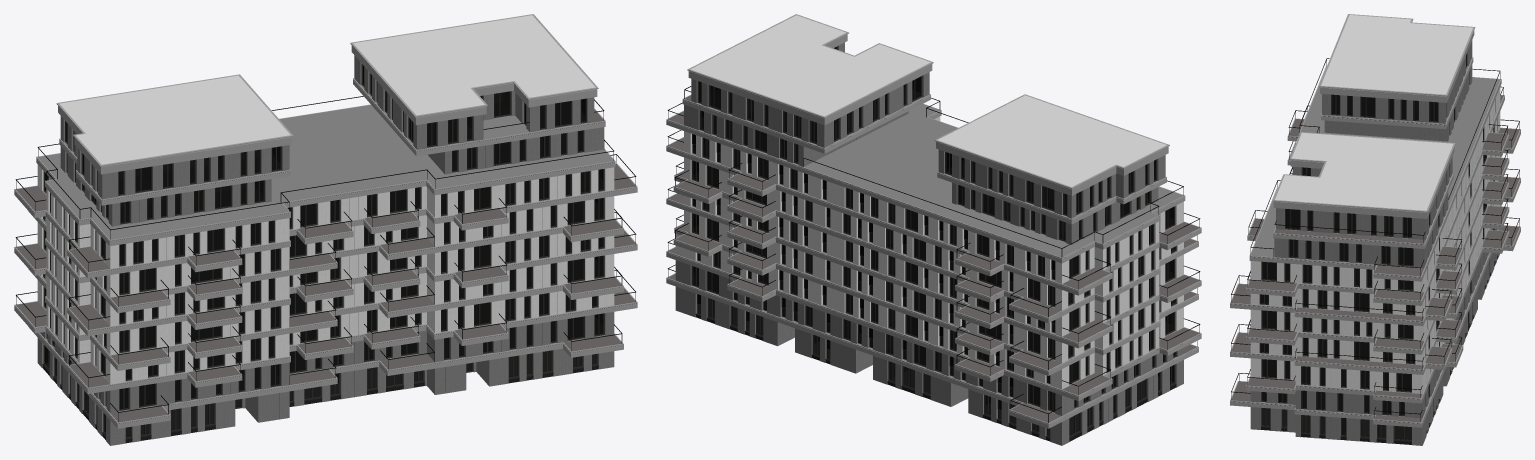
The model's file is building-transformed.glb.
The picture shows the model from 3 angles, left to right: view 1: azimuth 30°, elevation 25°; view 2: azimuth 150°, elevation 25°; view 3: azimuth 270°, elevation 25°; orthographic projection. The views are drawn at different scales.
Visible parts, largest first — view 1: mainBuilding, mainBuilding.003; view 2: mainBuilding, mainBuilding.003; view 3: mainBuilding, mainBuilding.003.
Boxes of the visible parts, bbox=[...] form: mainBuilding: bbox=[14, 14, 637, 445]; mainBuilding.003: bbox=[38, 85, 613, 411]; mainBuilding: bbox=[666, 14, 1201, 445]; mainBuilding.003: bbox=[691, 97, 1183, 413]; mainBuilding: bbox=[1230, 14, 1520, 445]; mainBuilding.003: bbox=[1251, 59, 1499, 416].
Size of the model in its own units: 70.65 by 34.37 by 39.72.
13 materials, 2 textured.
